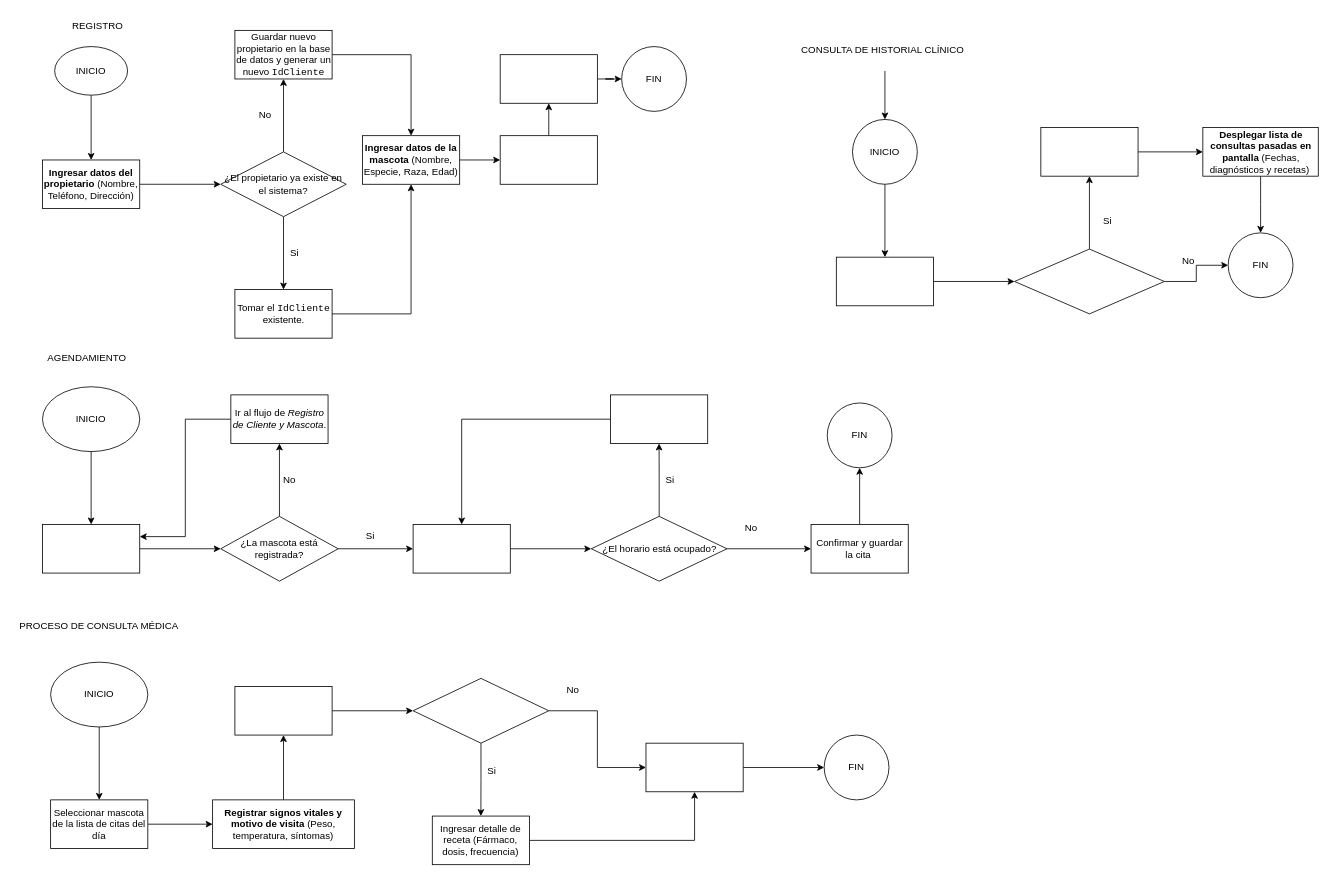
This 1332x879 diagram has some shape labels left out. Here are the shapes that lost their labels. From the top down, the centre of each, then its label:
At pixel 548 78: "Guardar registro completo".
At pixel 548 159: "Vincular mascota al IdCliente".
At pixel 1089 151: "Buscar todas las consultas asociadas a ese IdMascota".
At pixel 885 281: "Ingresar ID o nombre de la mascota".
At pixel 1089 281: "¿Existe la mascota en el sistema?".
At pixel 659 418: "Mostrar aviso de conflicto y volver a elegir horario.".
At pixel 91 548: "Buscar cliente y mascota".
At pixel 461 548: "Seleccionar fecha, hora y veterinario disponible".
At pixel 283 710: "Realizar revisión clínica y escribir diagnóstico".
At pixel 480 710: "¿Requiere medicamentos o tratamiento?".
At pixel 694 767: "Guardar consulta en el historial clínico de la mascota".
